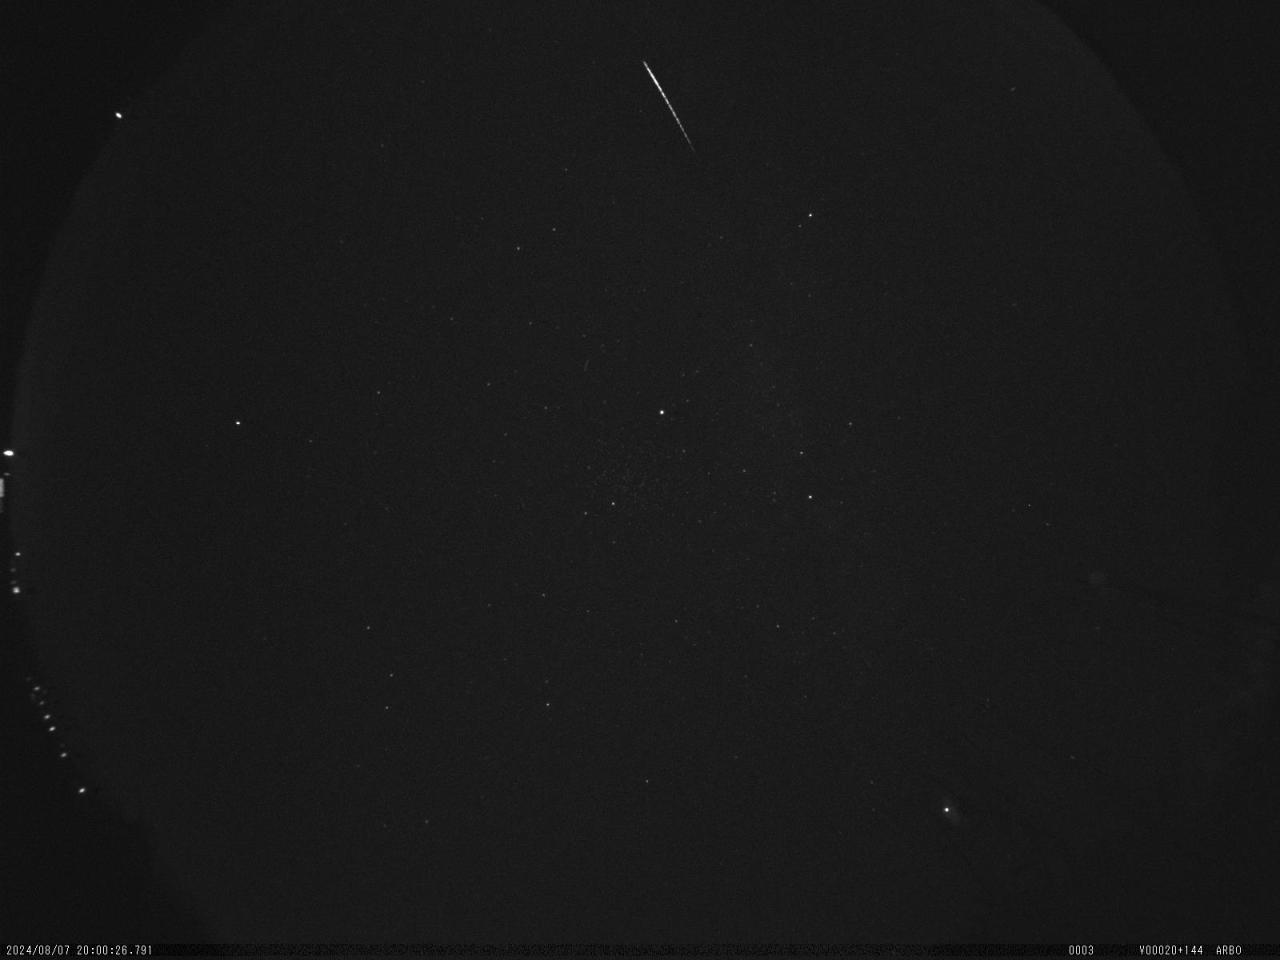Meteor: (636, 52, 698, 153)
